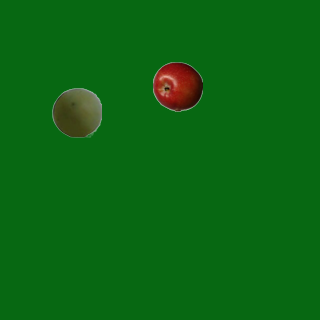Apple Braeburn: (152, 61, 202, 111)
Grape White 4: (51, 87, 101, 137)
